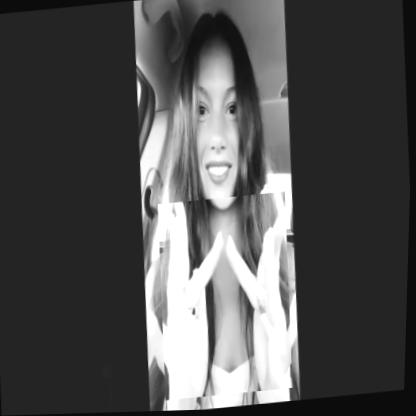Internet: (154, 193, 300, 402)
